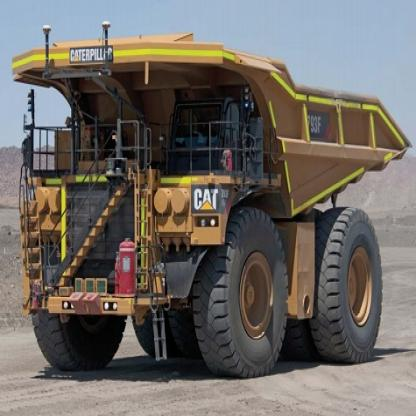dump_truck: (8, 23, 412, 372)
